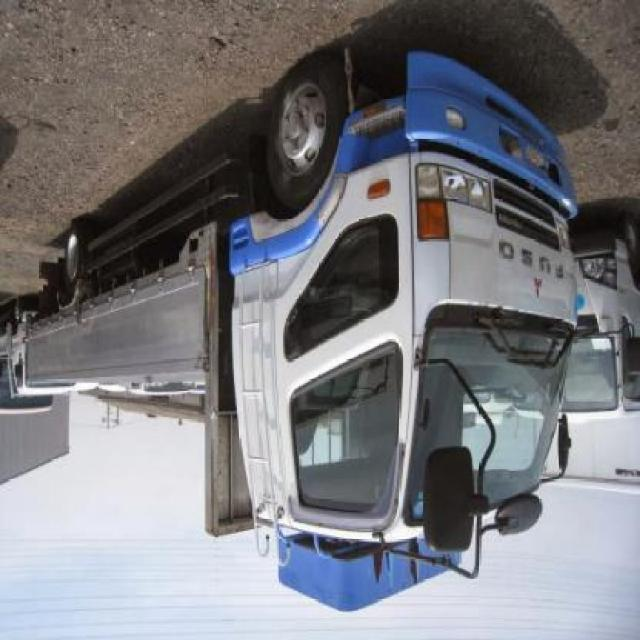truck: (25, 50, 585, 617)
